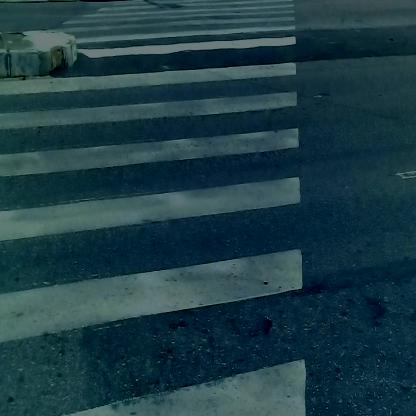crosswalk: (8, 2, 314, 410)
